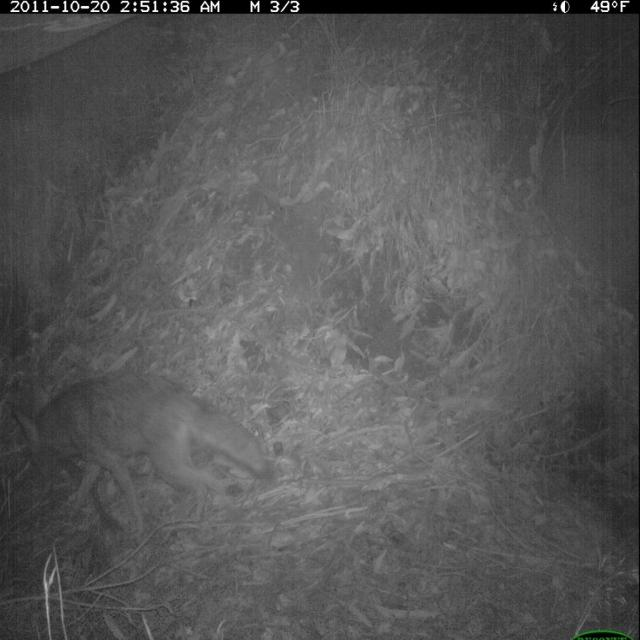coyote: (8, 354, 281, 544)
